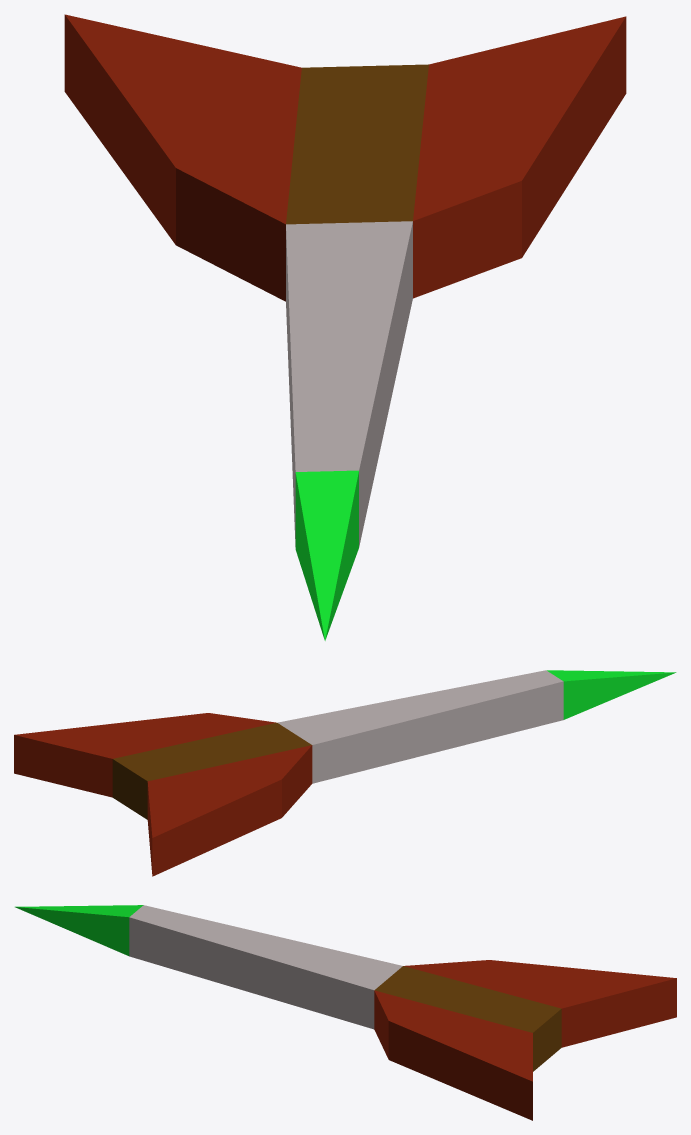
Rendered from inv_steel_dart_p.obj.
3 renders of one model, top to bottom at view 1: azimuth 30°, elevation 25°; view 2: azimuth 150°, elevation 25°; view 3: azimuth 270°, elevation 25°, orthographic. The views are drawn at different scales.
Bounding box in the file's own units: 0.2578 × 0.0234 × 0.3594.
